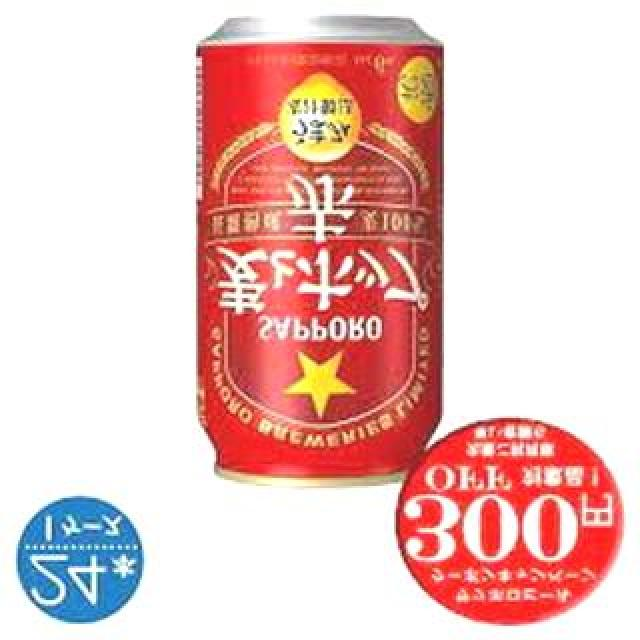Can: (190, 11, 450, 495)
